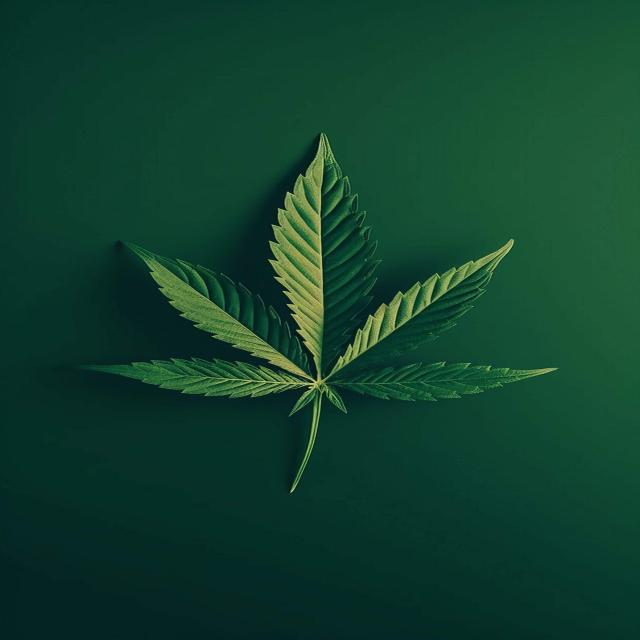cannabis: (79, 134, 557, 494)
